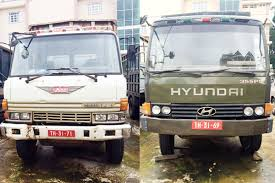plate: (190, 119, 223, 129), (46, 128, 74, 137)
